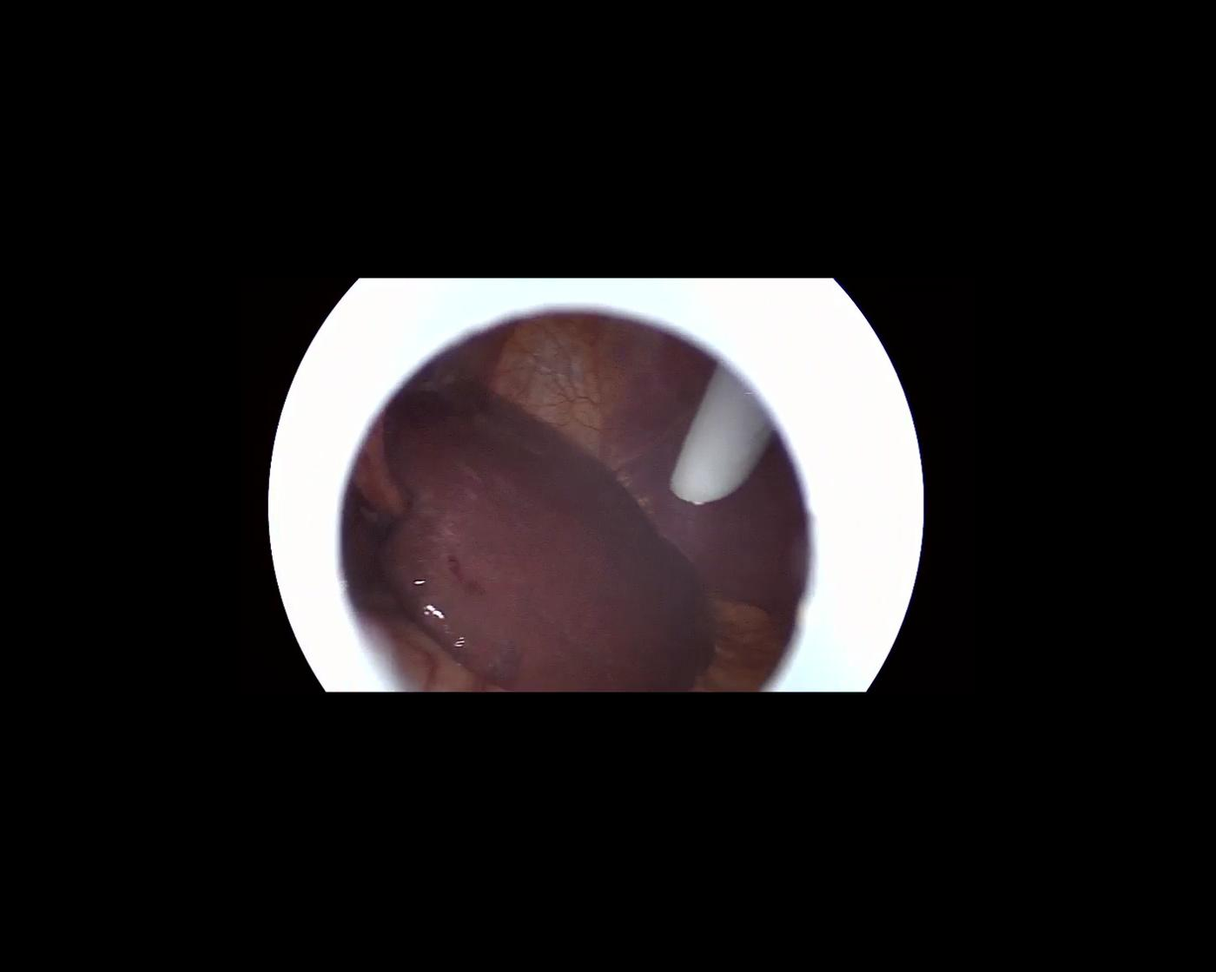Liver: (297, 341, 766, 785)
